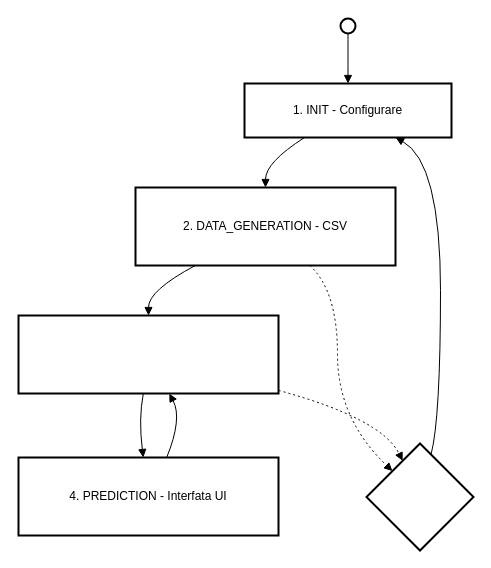
Image size: 491x568. Some labels were removed from this diagram. The centre of each missing label's shape, as x and y in pixels:
"3. TRAINING - Antrenare" goes at point 148,354.
"Eroare?" goes at point 419,496.
